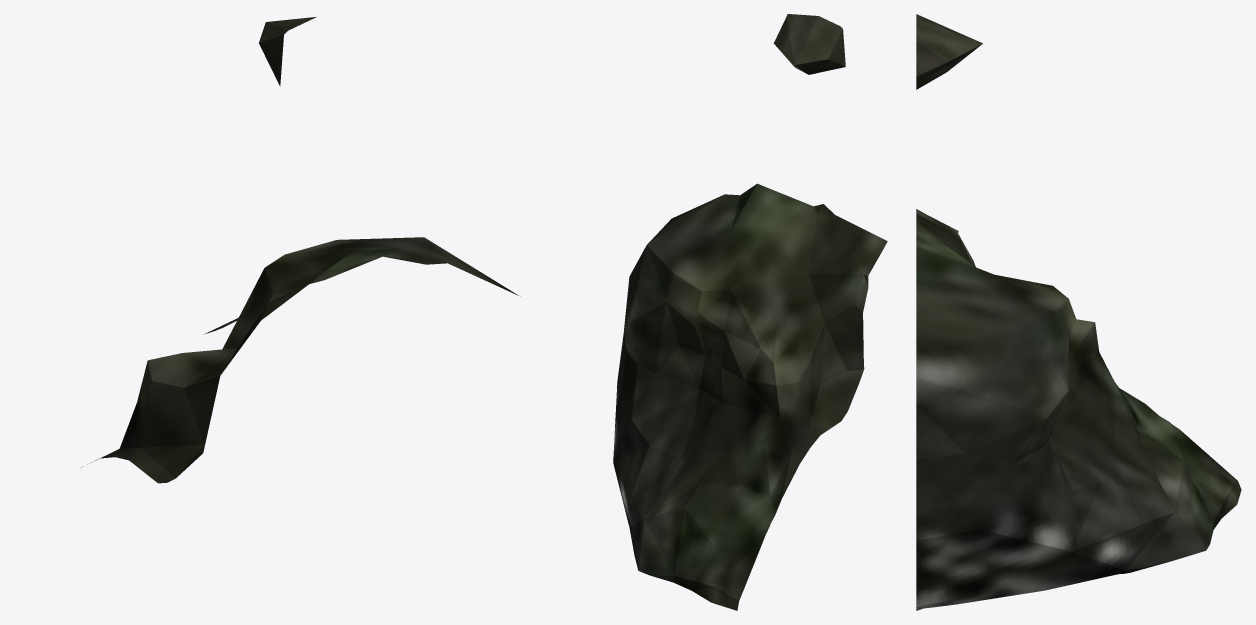
3 views of the same model, side by side, from view 1: azimuth 30°, elevation 25°; view 2: azimuth 150°, elevation 25°; view 3: azimuth 270°, elevation 25° (orthographic). The views are drawn at different scales.
Size of the model in its own units: 0.6203 by 1.06 by 0.6164.
Materials: 1 (1 with a texture image).
